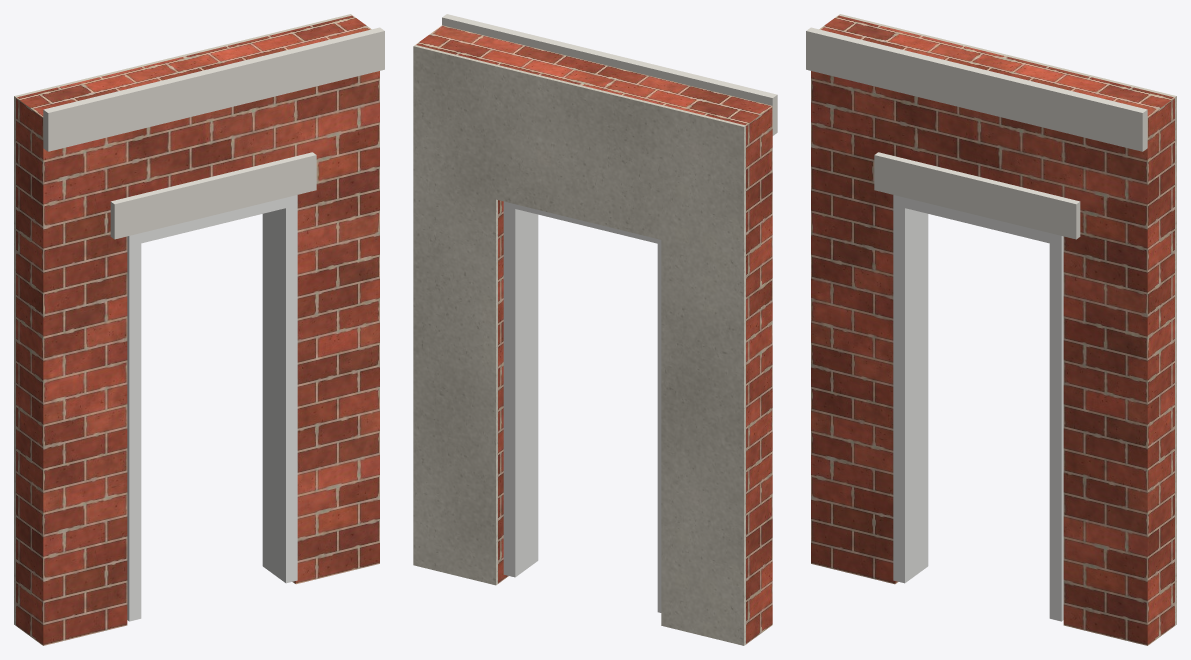
Rendered from wall_a1_backdoor.glb.
3 renders of one model, left to right at view 1: azimuth 30°, elevation 25°; view 2: azimuth 150°, elevation 25°; view 3: azimuth 330°, elevation 25°, orthographic.
Visible parts, largest first — view 1: wall_a1_backdoor_brick, wall_a1_backdoor_lime, wall_a1_backdoor_frame, wall_a1_backdoor_plaster; view 2: wall_a1_backdoor_plaster, wall_a1_backdoor_brick, wall_a1_backdoor_frame, wall_a1_backdoor_lime; view 3: wall_a1_backdoor_brick, wall_a1_backdoor_lime, wall_a1_backdoor_frame, wall_a1_backdoor_plaster.
Boxes of the visible parts, bbox=[...] form: wall_a1_backdoor_brick: bbox=[16, 15, 379, 645]; wall_a1_backdoor_lime: bbox=[43, 27, 384, 239]; wall_a1_backdoor_frame: bbox=[127, 195, 297, 621]; wall_a1_backdoor_plaster: bbox=[14, 14, 352, 625]; wall_a1_backdoor_plaster: bbox=[413, 45, 745, 645]; wall_a1_backdoor_brick: bbox=[415, 25, 772, 644]; wall_a1_backdoor_frame: bbox=[503, 201, 661, 612]; wall_a1_backdoor_lime: bbox=[442, 14, 777, 135]; wall_a1_backdoor_brick: bbox=[811, 15, 1174, 645]; wall_a1_backdoor_lime: bbox=[806, 27, 1147, 239]; wall_a1_backdoor_frame: bbox=[893, 195, 1063, 621]; wall_a1_backdoor_plaster: bbox=[838, 14, 1176, 625].
Size of the model in its own units: 2 by 3.05 by 0.35.
Materials: 4 (2 with a texture image).
